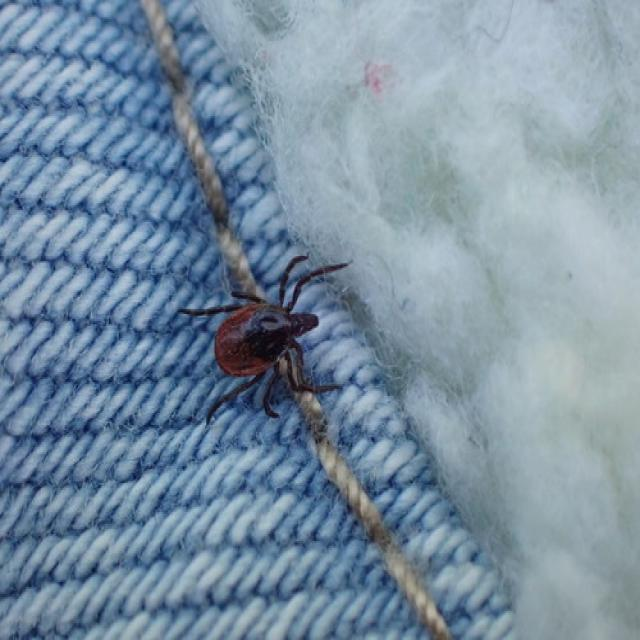Ixodes Ricinus-F: (179, 253, 351, 427)
